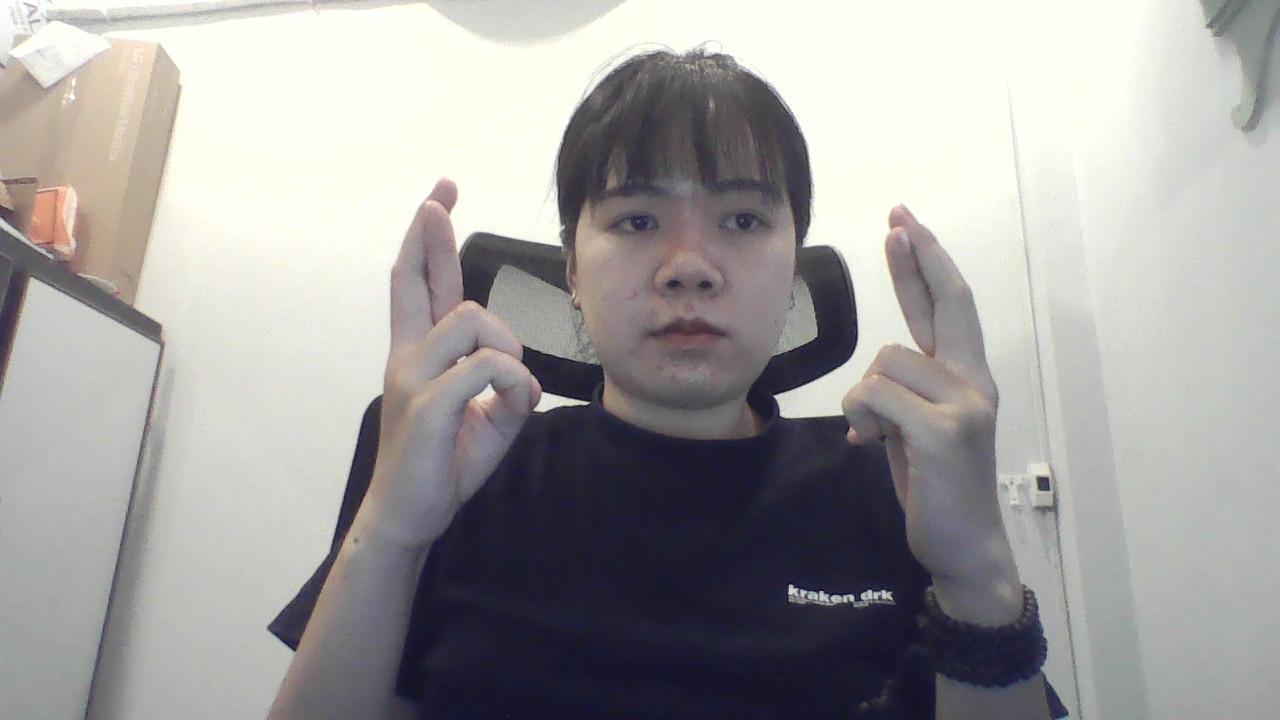R: (324, 162, 548, 570), (809, 184, 1022, 604)
